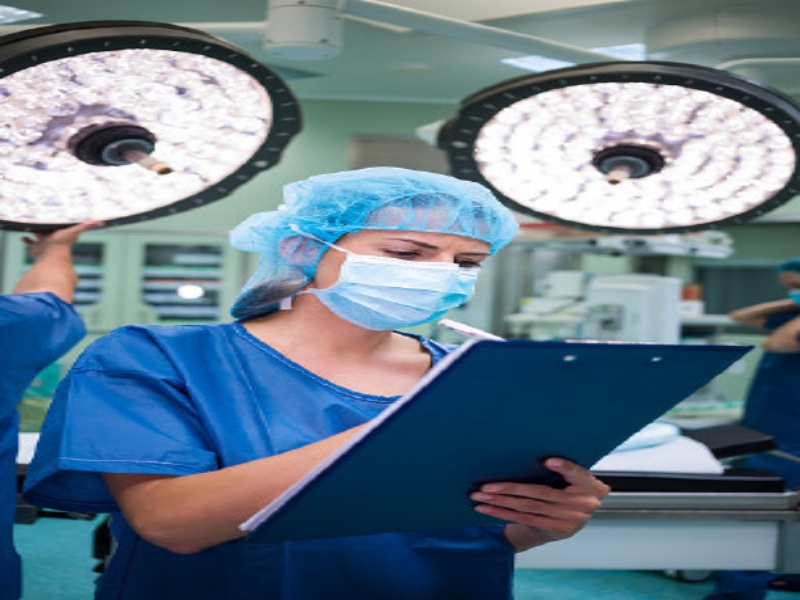mask: (284, 164, 521, 337)
